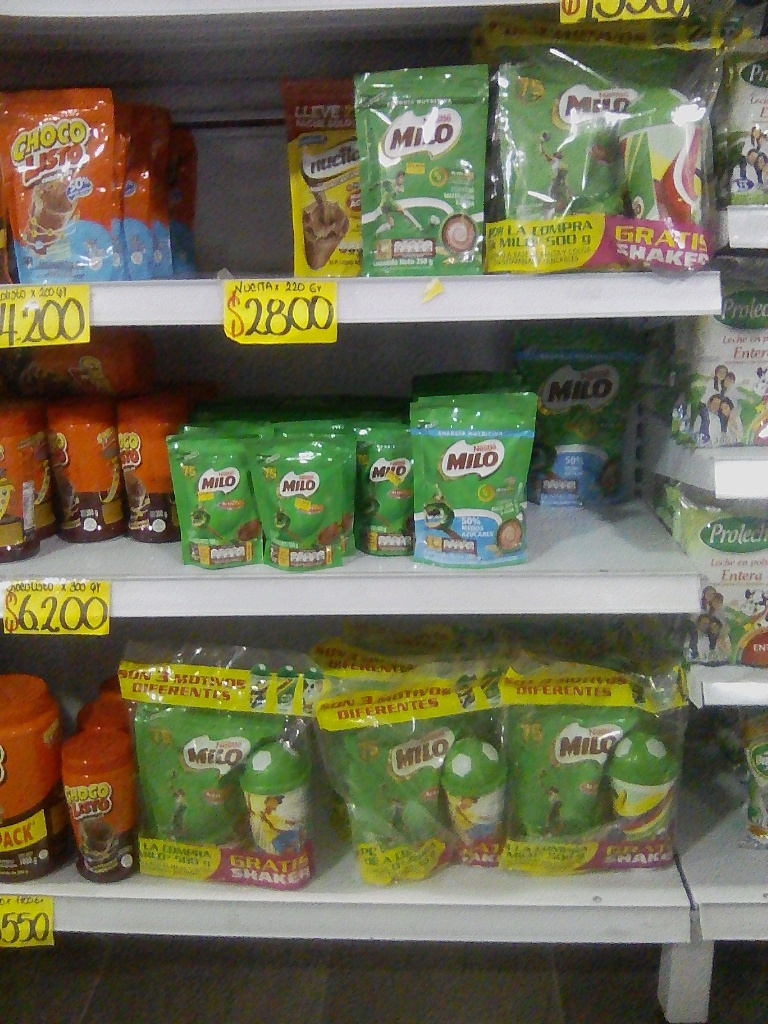COL0170103TRR00100: (1, 665, 67, 883)
COL0170103TRR30000: (43, 399, 122, 558)
COL0170104DYP20000: (1, 84, 124, 286)
COL0170203DYP10000: (174, 425, 256, 571)
COL0170203DYP25000: (353, 74, 490, 274)
COL0170203DYP50000: (482, 48, 621, 223)
COL0170205DYP20000: (408, 391, 528, 562)
